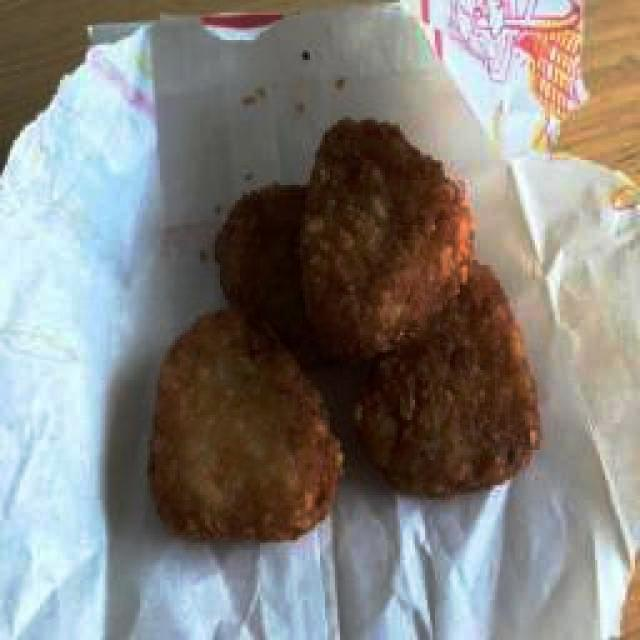Hashbrown: (345, 260, 541, 494), (153, 312, 340, 538), (305, 120, 472, 361), (218, 183, 307, 353)
